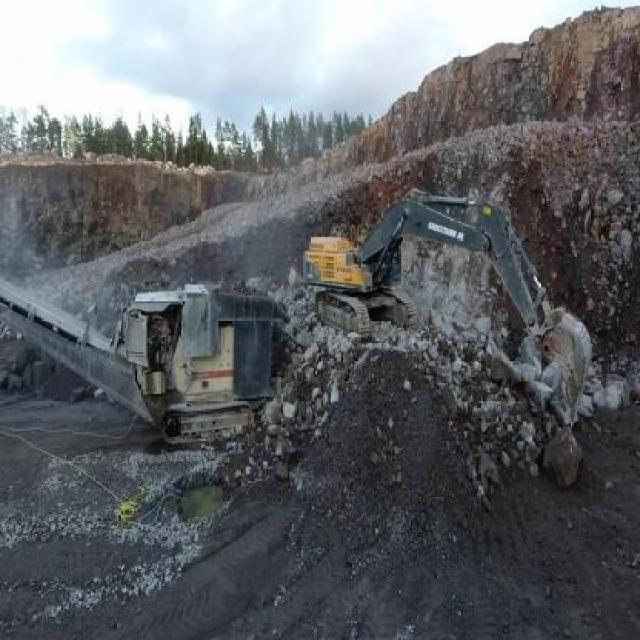Excavator: (300, 190, 592, 422)
